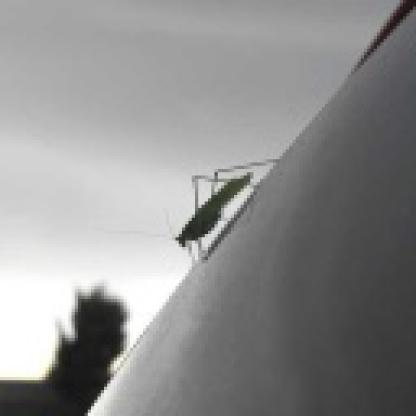grasshopper: (160, 154, 268, 257)
